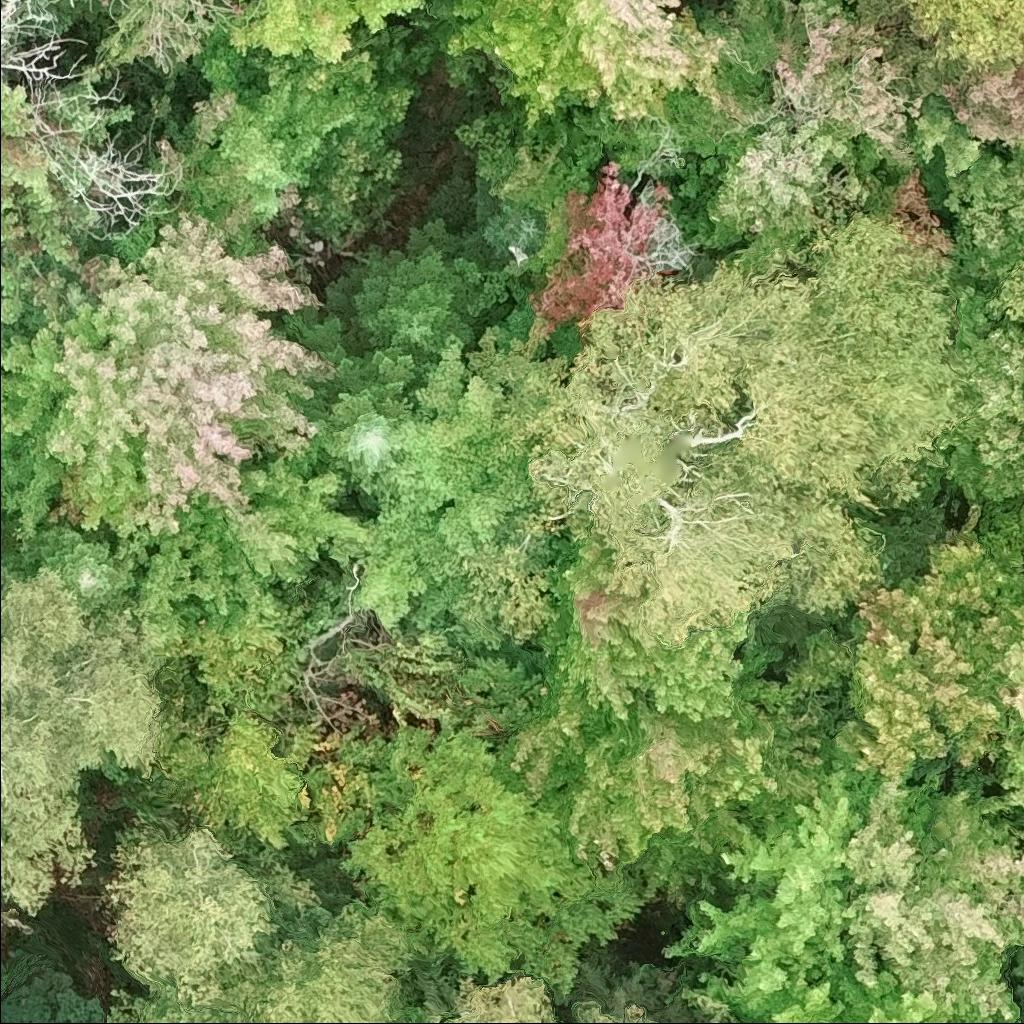crown: (524, 208, 984, 648), (0, 196, 343, 578), (337, 723, 657, 1004), (498, 639, 831, 907), (351, 299, 572, 635), (100, 813, 423, 1023), (0, 563, 174, 916), (701, 0, 922, 267), (659, 760, 877, 1023), (833, 765, 1023, 1023), (849, 510, 1023, 765), (427, 0, 756, 132), (129, 450, 372, 625), (535, 536, 752, 722), (191, 67, 369, 234), (523, 157, 668, 352), (0, 76, 101, 328), (324, 212, 477, 361), (910, 94, 1023, 267), (939, 278, 1023, 506), (303, 339, 428, 483), (766, 962, 1001, 1023), (0, 513, 138, 614), (228, 0, 424, 65), (427, 161, 540, 269), (892, 0, 1023, 75), (937, 64, 1023, 157), (417, 977, 561, 1023), (989, 250, 1023, 374), (1004, 646, 1023, 802), (569, 1001, 655, 1023), (1011, 1012, 1023, 1023), (1018, 406, 1023, 425)
